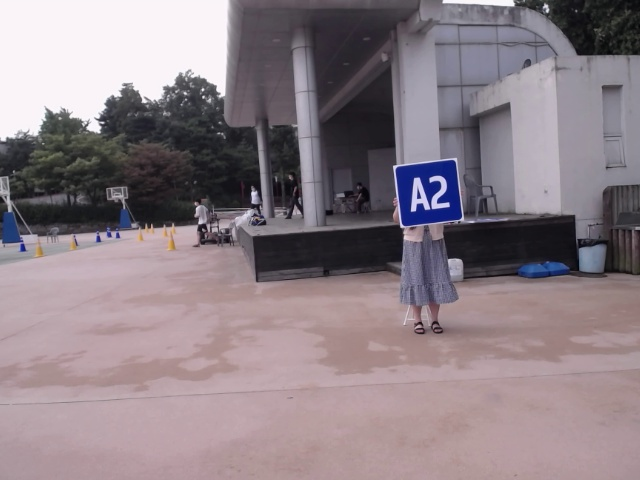delivery_a2: (395, 159, 463, 228)
